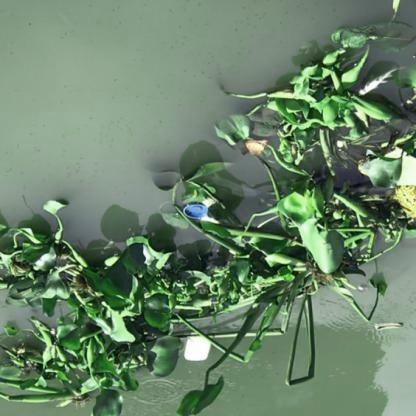Trash: (183, 329, 214, 365), (182, 198, 212, 222)
